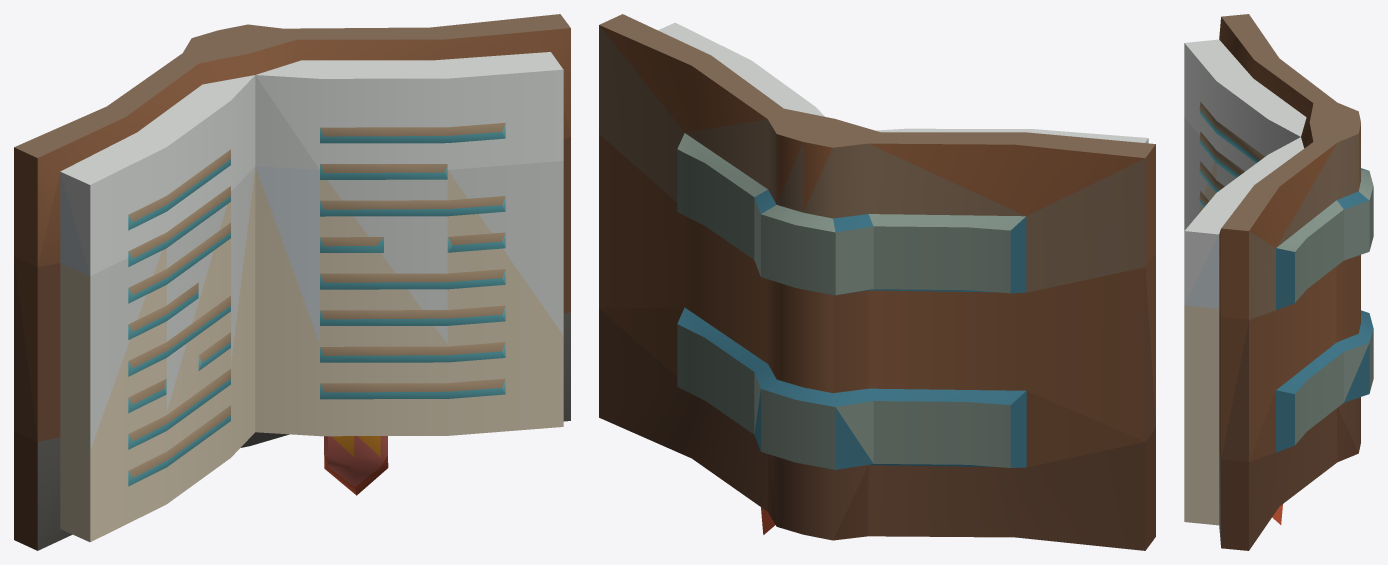
Rendered from itch_kaykit_rpg_tools_journal_open.glb.
The picture shows the model from 3 angles, left to right: view 1: azimuth 30°, elevation 25°; view 2: azimuth 150°, elevation 25°; view 3: azimuth 270°, elevation 25°; orthographic projection. The views are drawn at different scales.
Visible parts, largest first — view 1: journal_open; view 2: journal_open; view 3: journal_open.
Boxes of the visible parts, x1,y1,x2,y2 form: journal_open: (14,14,570,550); journal_open: (599,14,1155,550); journal_open: (1184,14,1373,550).
Bounding box in the file's own units: 1.18 × 0.9312 × 0.4343.
